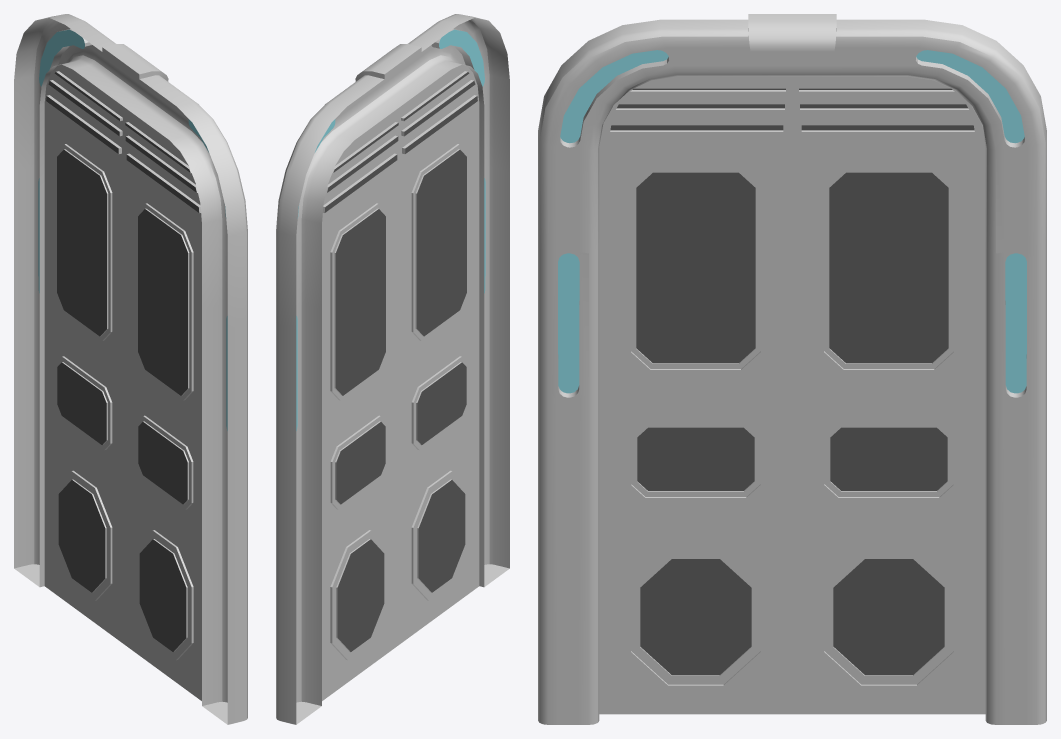
File: Door MedHall.fbx
3 renders of one model, left to right at view 1: azimuth 30°, elevation 25°; view 2: azimuth 150°, elevation 25°; view 3: azimuth 270°, elevation 25°, orthographic. The views are drawn at different scales.
Visible parts, largest first — view 1: Plane.001, Plane; view 2: Plane.001, Plane; view 3: Plane.001, Plane.
Boxes of the visible parts, x1,y1,x2,y2 form: Plane.001: (44, 64, 201, 700); Plane: (14, 14, 247, 724); Plane.001: (322, 64, 479, 700); Plane: (276, 14, 509, 724); Plane.001: (599, 76, 985, 714); Plane: (538, 14, 1046, 724).
Size of the model in its own units: 0.1254 by 2.37 by 1.57.
